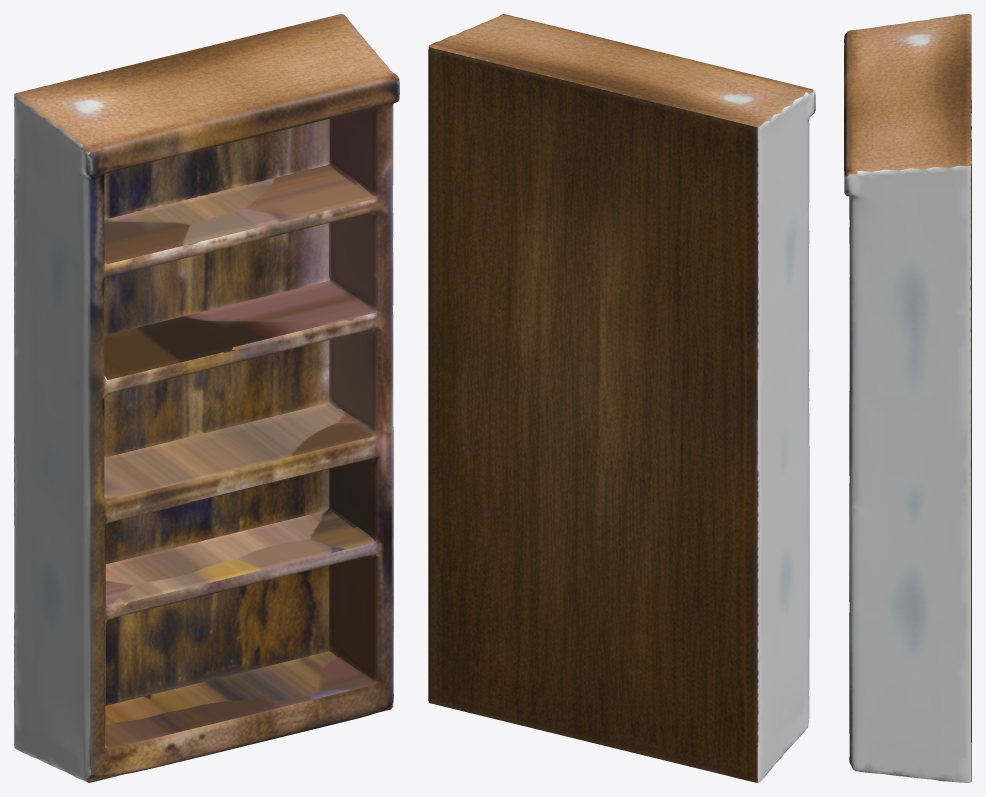
The model's file is shelf__shelf#4.glb.
The picture shows the model from 3 angles, left to right: view 1: azimuth 30°, elevation 25°; view 2: azimuth 150°, elevation 25°; view 3: azimuth 270°, elevation 25°; orthographic projection. The views are drawn at different scales.
Visible parts, largest first — view 1: tmpfaoqsi1s.ply; view 2: tmpfaoqsi1s.ply; view 3: tmpfaoqsi1s.ply.
Part boxes in pixels (x1=…): tmpfaoqsi1s.ply: x1=14, y1=14, x2=399, y2=782; tmpfaoqsi1s.ply: x1=428, y1=14, x2=815, y2=782; tmpfaoqsi1s.ply: x1=844, y1=14, x2=971, y2=782.
Bounding box in the file's own units: 1.05 × 1.99 × 0.372.
Materials: 1 (1 with a texture image).
